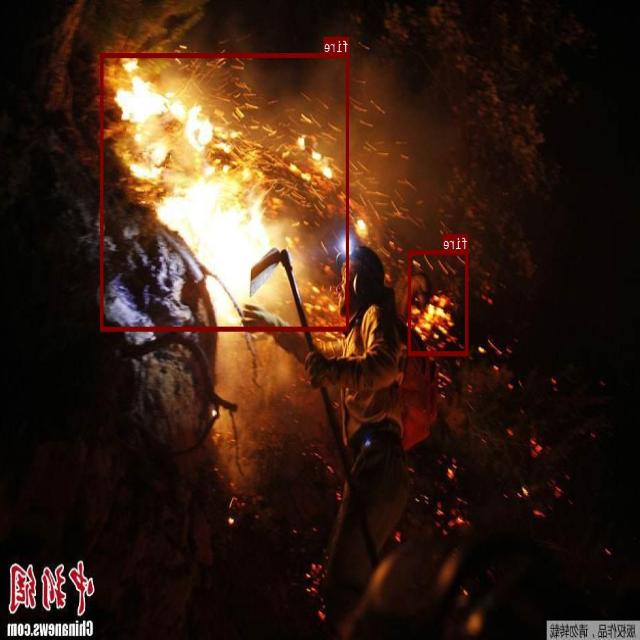fire: (100, 52, 350, 330), (408, 249, 468, 355)
